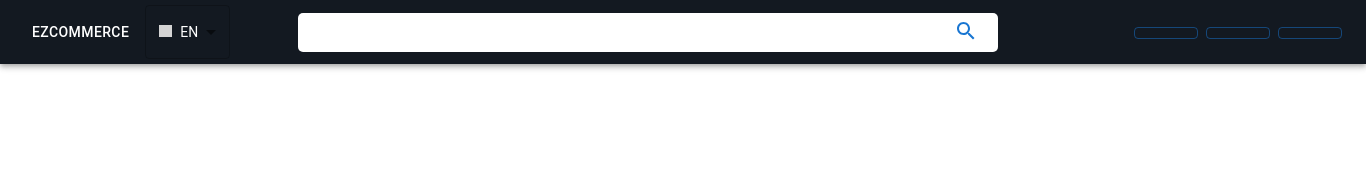
TopBar Component › Test locale change button to es
Press the mouse on the dropdown "EN" at (179, 32), box [159,24,198,40]
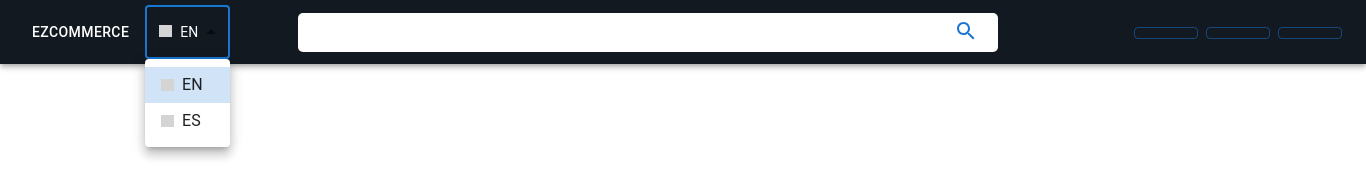
Click the option "ES" at (181, 120), box [161,111,201,130]
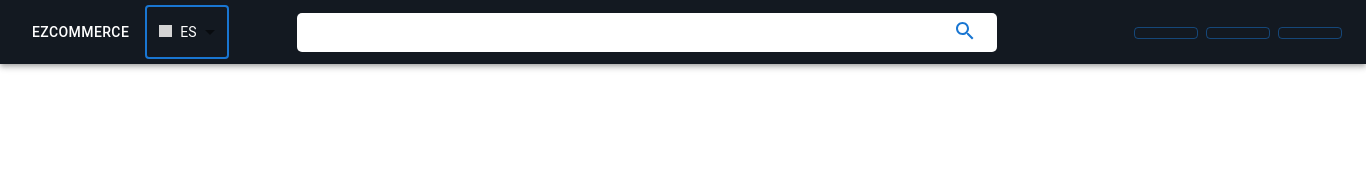
Check: the dropdown "ES" is shown, box [159,24,197,40]
